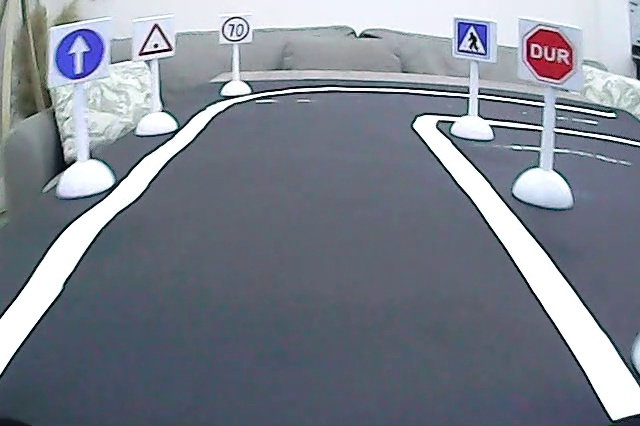green light: (136, 20, 176, 60)
pedestrian crossing: (453, 18, 491, 61)
speed limit 70: (220, 14, 253, 45)
stop sign: (520, 24, 579, 87)
